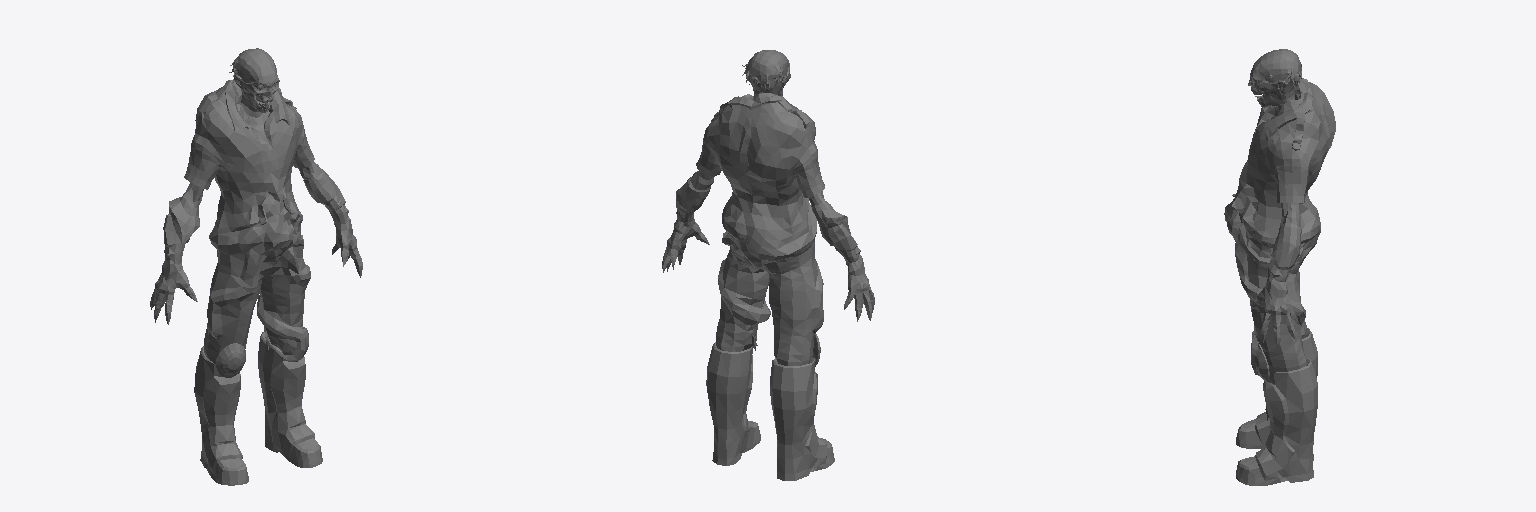
The model's file is zombie.obj.
3 views of the same model, side by side, from view 1: azimuth 30°, elevation 25°; view 2: azimuth 150°, elevation 25°; view 3: azimuth 270°, elevation 25° (orthographic).
Parts seen in each view (by area): view 1: Lambent_Male; view 2: Lambent_Male; view 3: Lambent_Male.
Part boxes in pixels (x1,y1,x2,y2): Lambent_Male: (150,48,362,485); Lambent_Male: (662,50,874,480); Lambent_Male: (1224,49,1335,485).
Size of the model in its own units: 72.12 by 138 by 33.84.